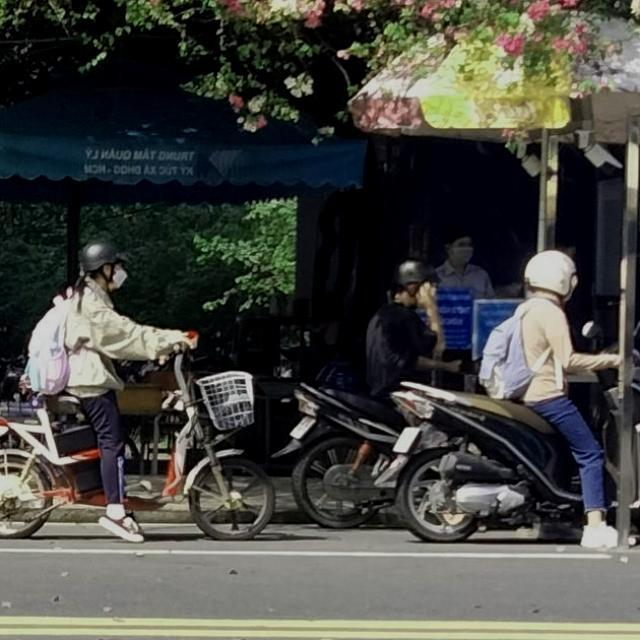Helmet: (524, 250, 578, 304), (78, 237, 128, 295), (391, 260, 440, 310)
